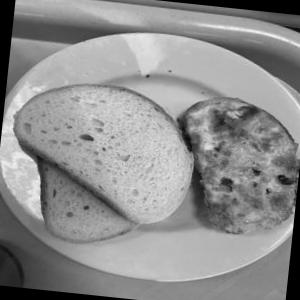bread: (0, 61, 204, 255)
cheese_sandwich: (162, 71, 300, 267)
